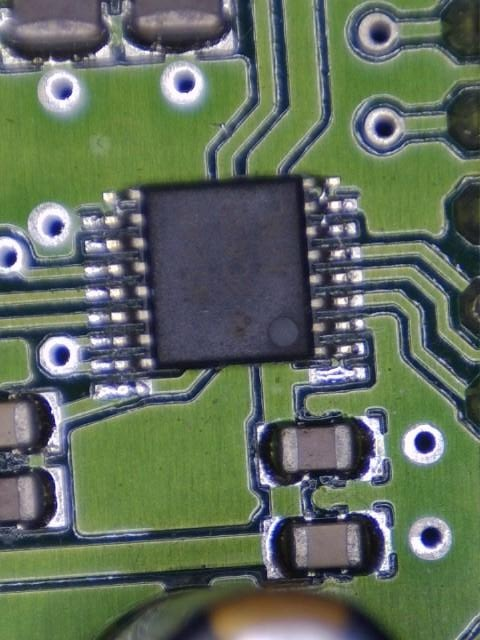pcb_defect: (81, 175, 370, 401)
